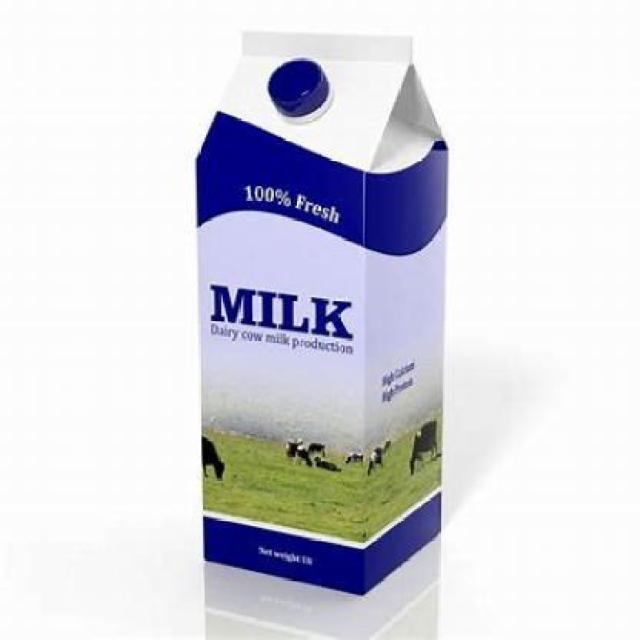drink carton: (194, 29, 448, 600)
plastic bottle cap: (266, 57, 330, 120)
